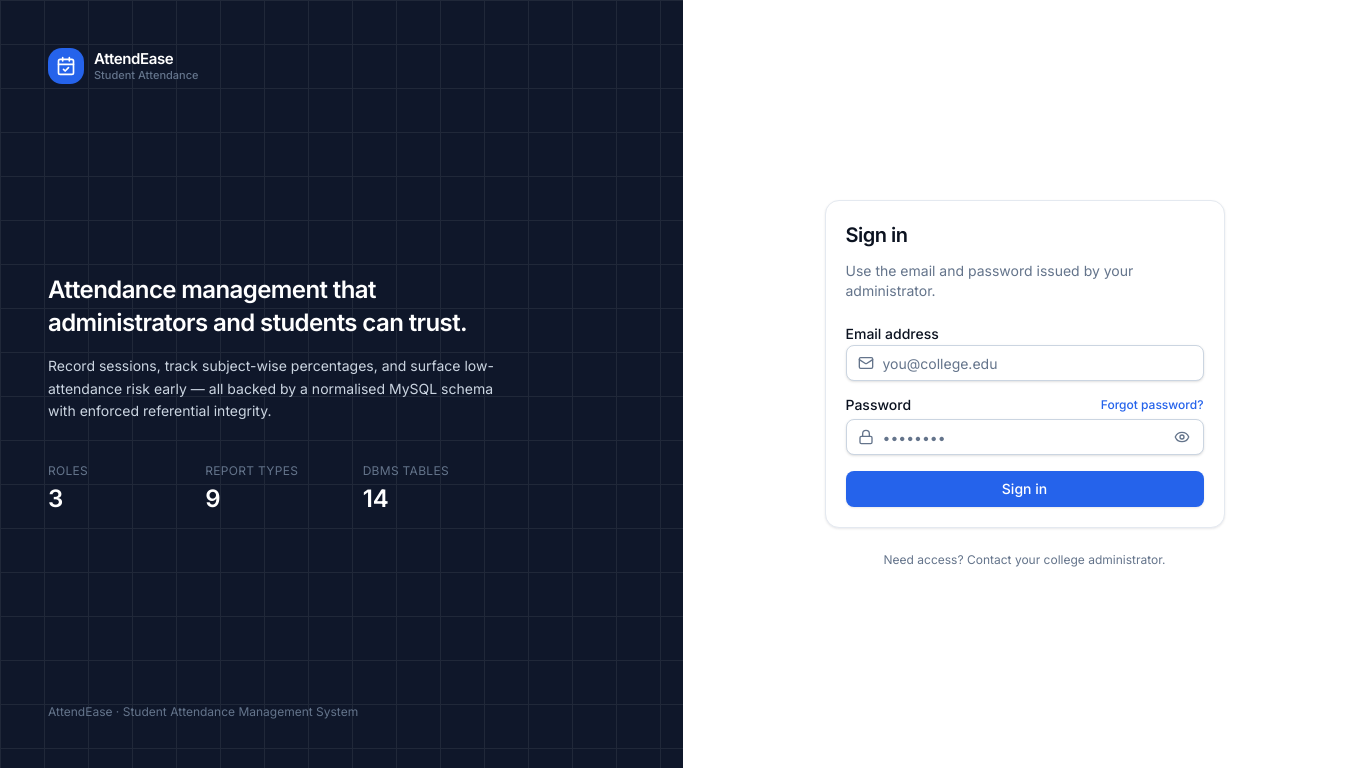
Login page › lands the administrator on the administrator dashboard
Type "admin@attendease.test" into the field labelled "Email address" at (1024, 363), box [846, 345, 1204, 381]
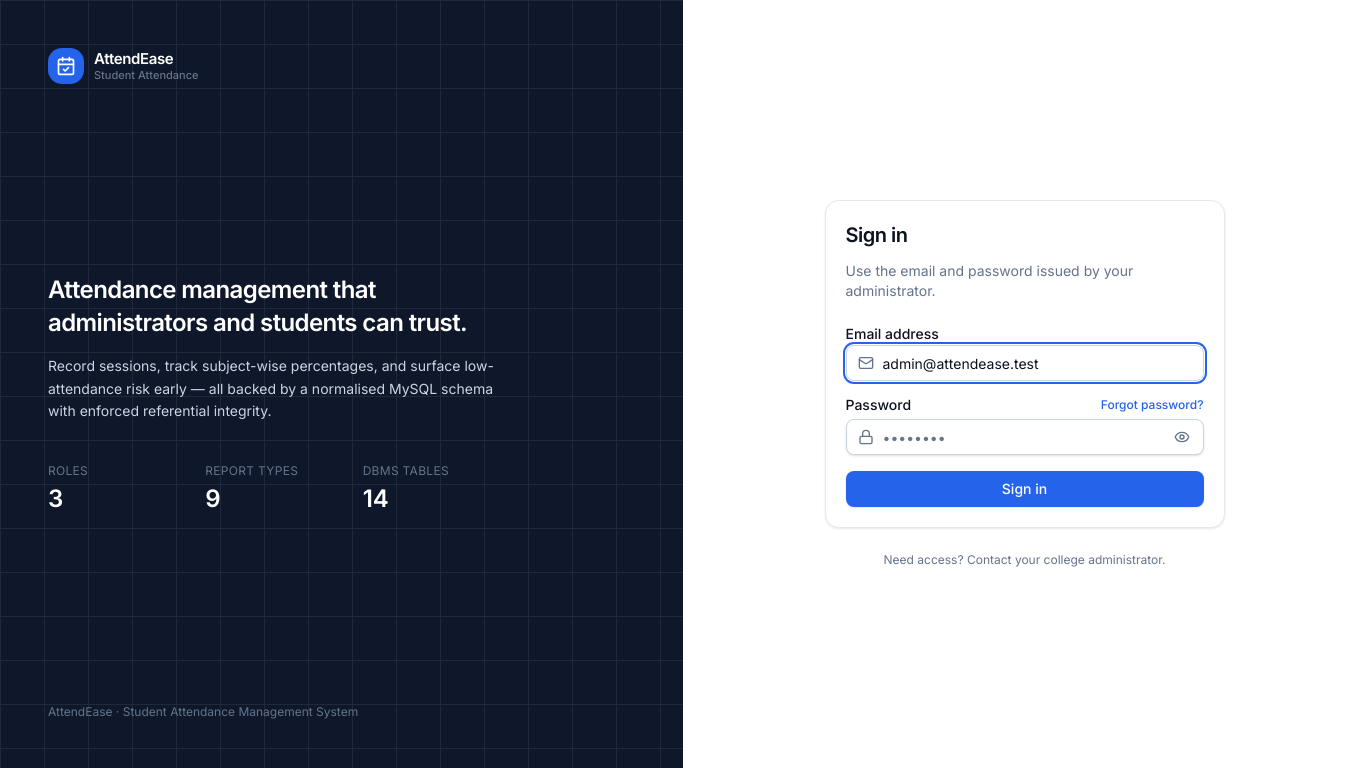
Type "Password@123" into the password field labelled "Password" at (1024, 437), box [846, 419, 1204, 455]
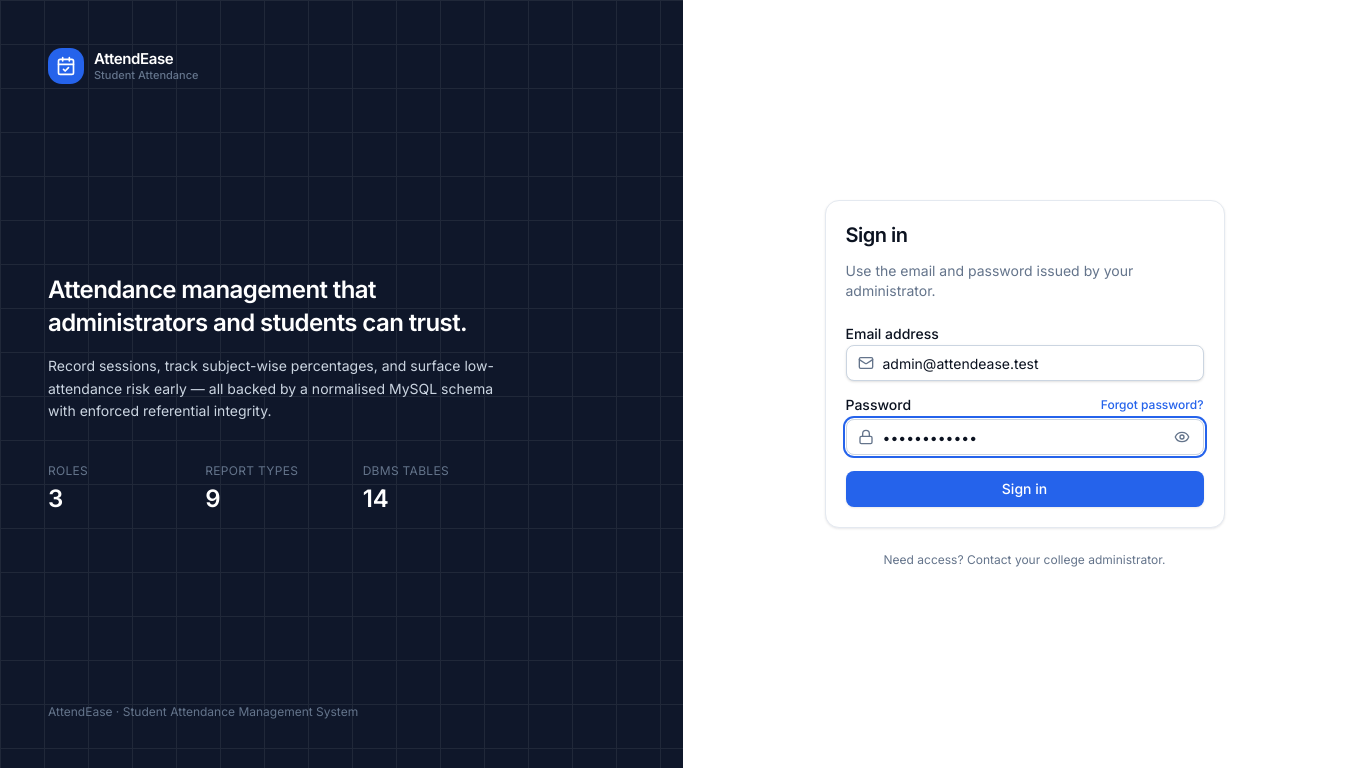
Click the button "Sign in" at (1024, 489), box [846, 471, 1204, 507]
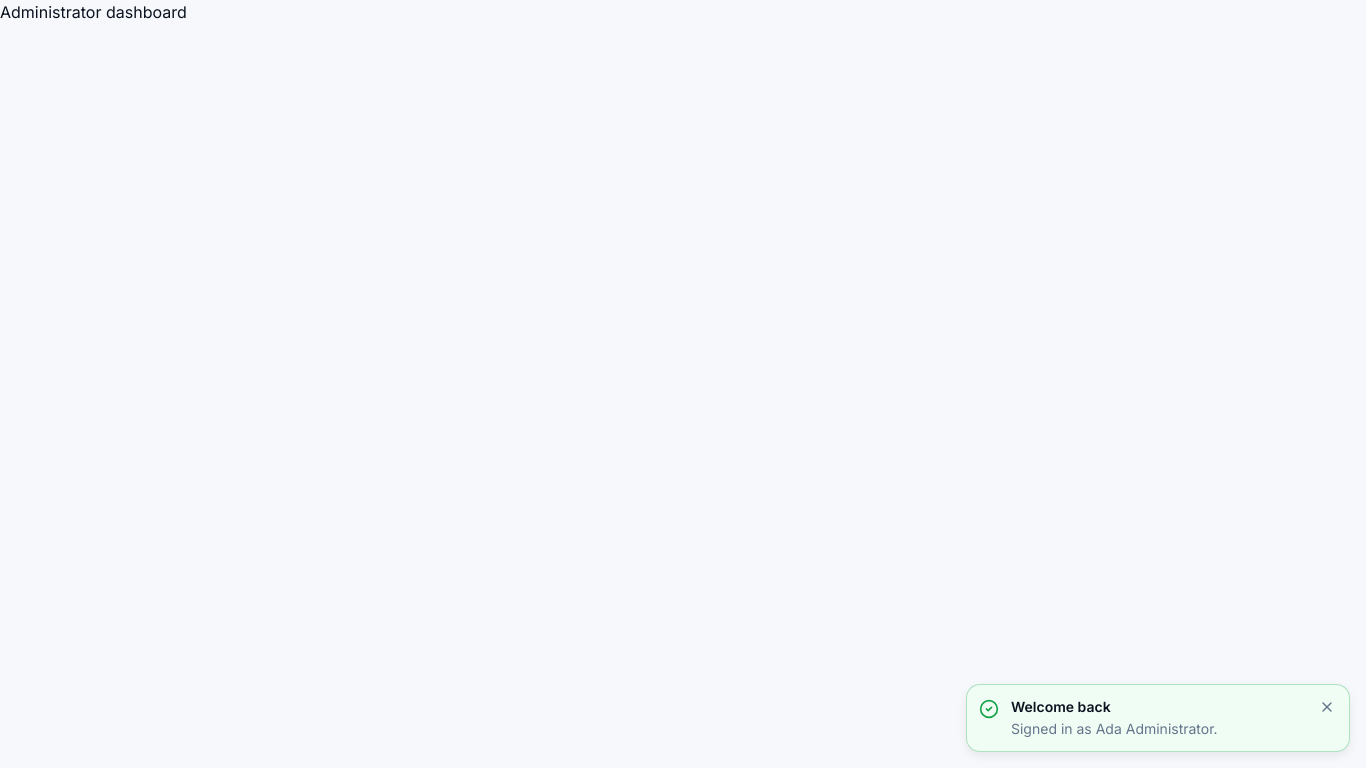
Expected: the text "Administrator dashboard" is shown, [0, 2, 187, 22]
